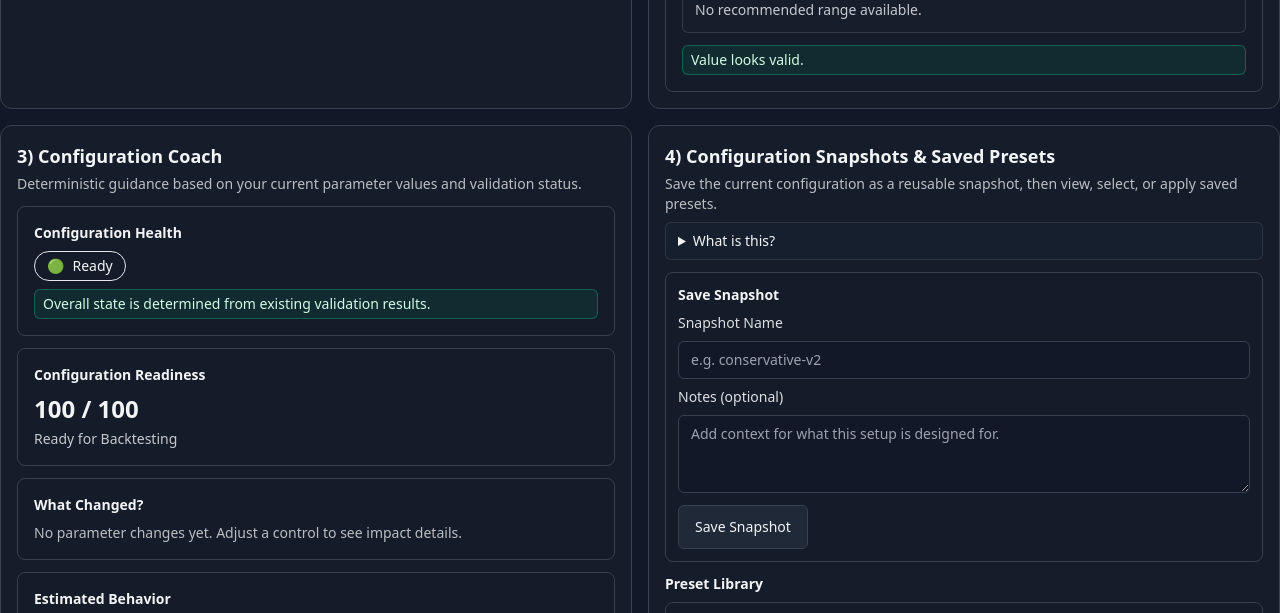
it: StrategyLabPage Prompt 4.2 › handles duplicate snapshot names gracefully
(page scrolled)
In the field labelled "Snapshot Name": (964, 360) left=678, top=341, right=1250, bottom=379, type "conservative-v1"
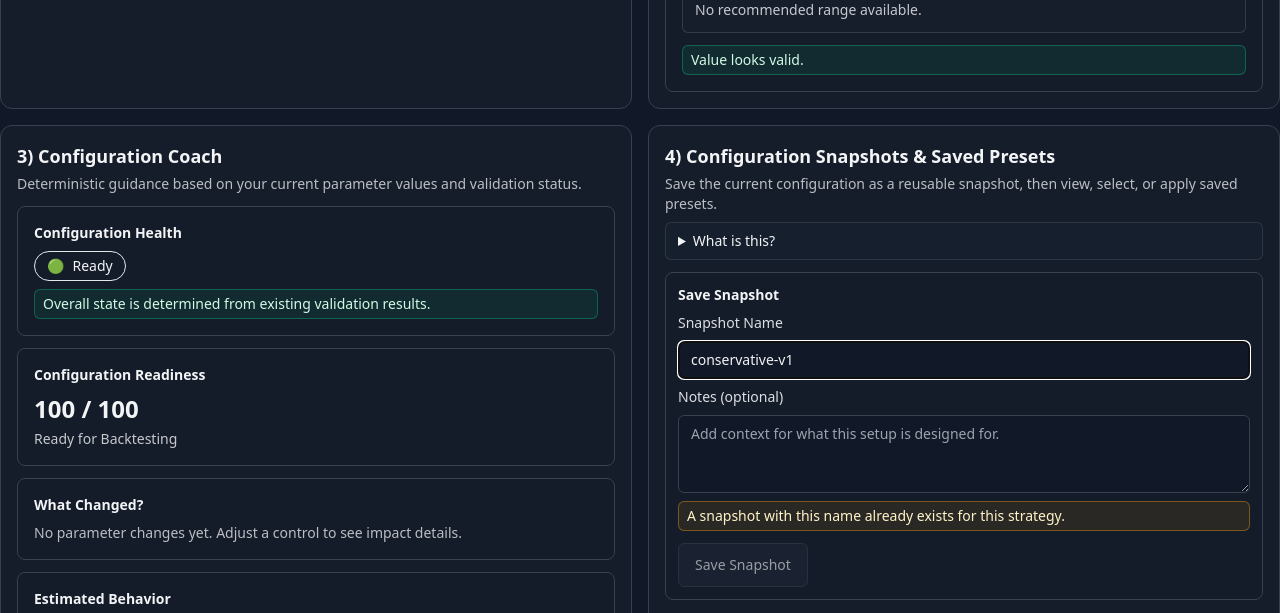
Check: the text "A snapshot with this name already exists for this strategy." is shown, box left=678, top=501, right=1250, bottom=531
Check: the button "Save Snapshot" is disabled, box left=678, top=543, right=808, bottom=587
